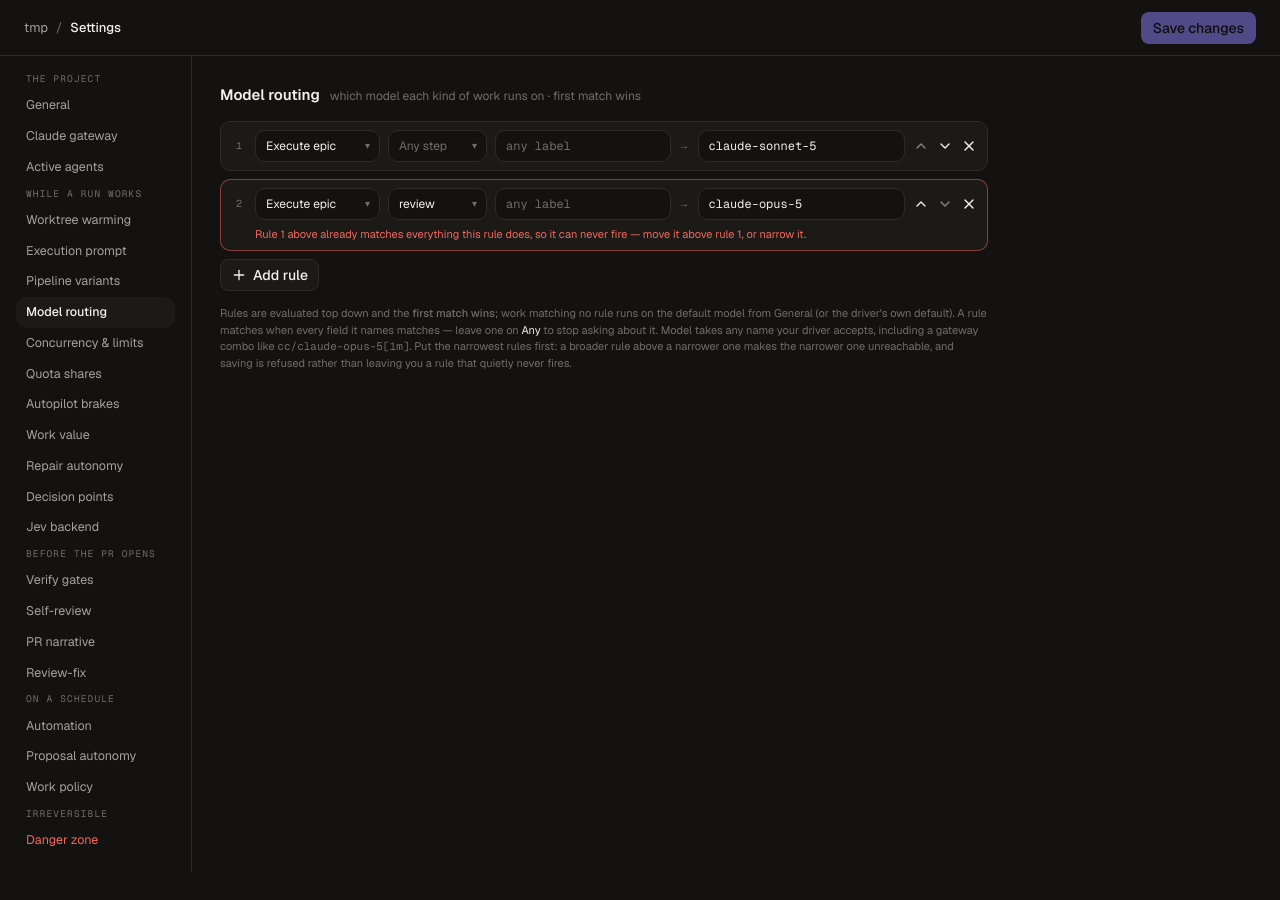
Test: SettingsView model routing (anton-uu7r) › flags a rule an earlier rule shadows, where it sits — not only at the server's 400
The width and height of the screenshot is (1280, 900).
Expected: the message shows "Rule 1 above already matches", [255,226,806,240]
# Reordering narrowest-first is the fix, and the warning goes with it.
Click the button named "Move rule 2 up" at (921, 204), box [913,196,929,212]
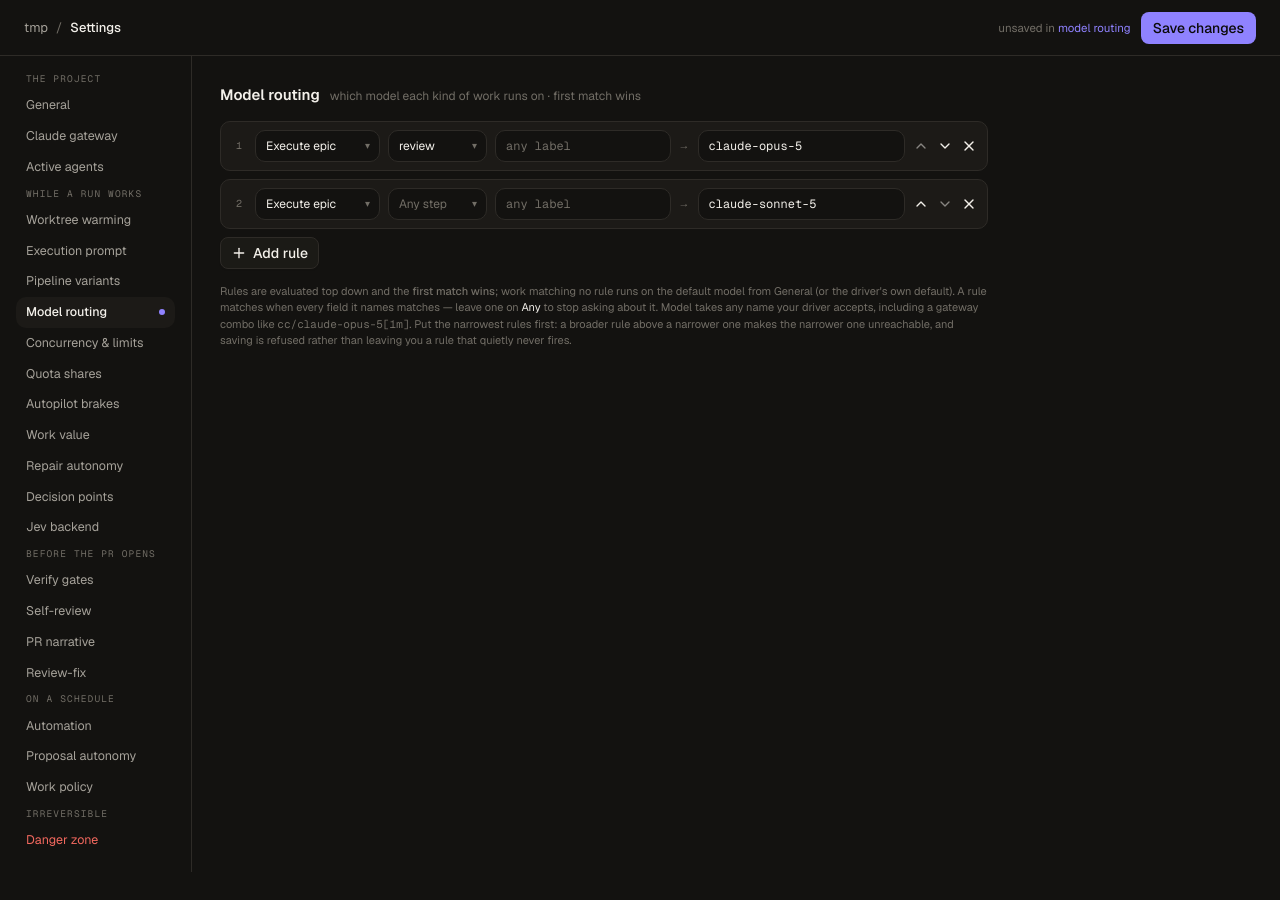
Now the message is gone
